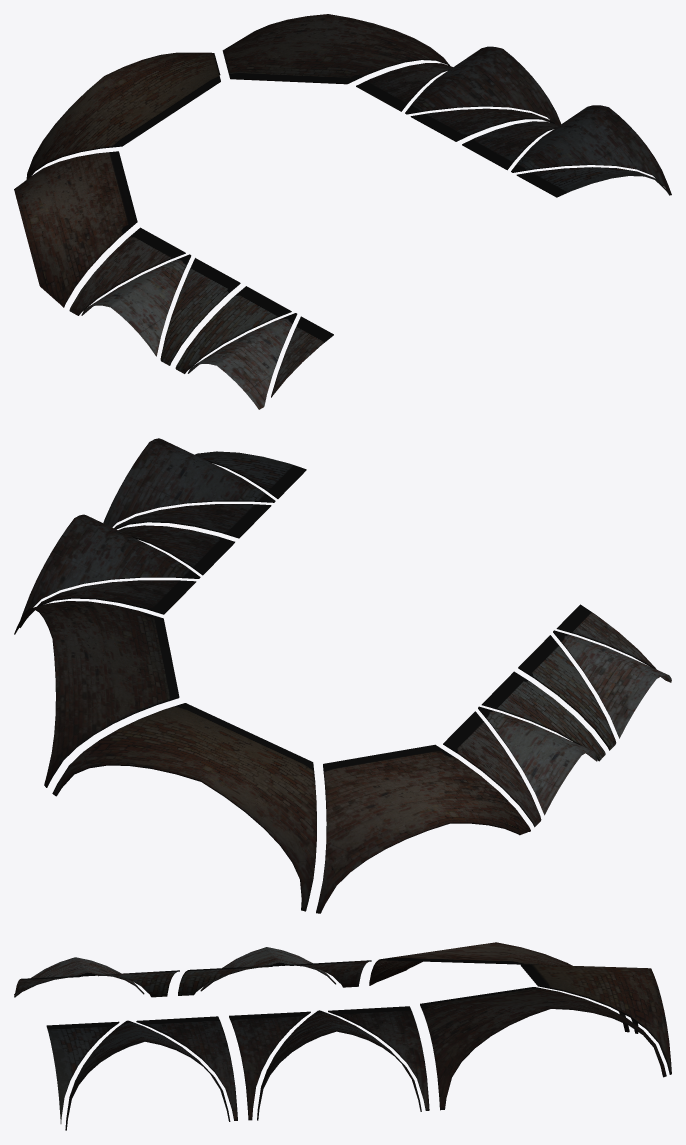
File: OuterRoof.obj
3 views of the same model, one above another, from view 1: azimuth 30°, elevation 25°; view 2: azimuth 150°, elevation 25°; view 3: azimuth 270°, elevation 25° (orthographic). The views are drawn at different scales.
Parts seen in each view (by area): view 1: Circle.019_0; view 2: Circle.019_0; view 3: Circle.019_0.
Boxes of the visible parts, x1,y1,x2,y2 form: Circle.019_0: (14,14,671,409); Circle.019_0: (14,438,671,913); Circle.019_0: (14,942,671,1130).
Bounding box in the file's own units: 21.94 × 7.6 × 23.66.
